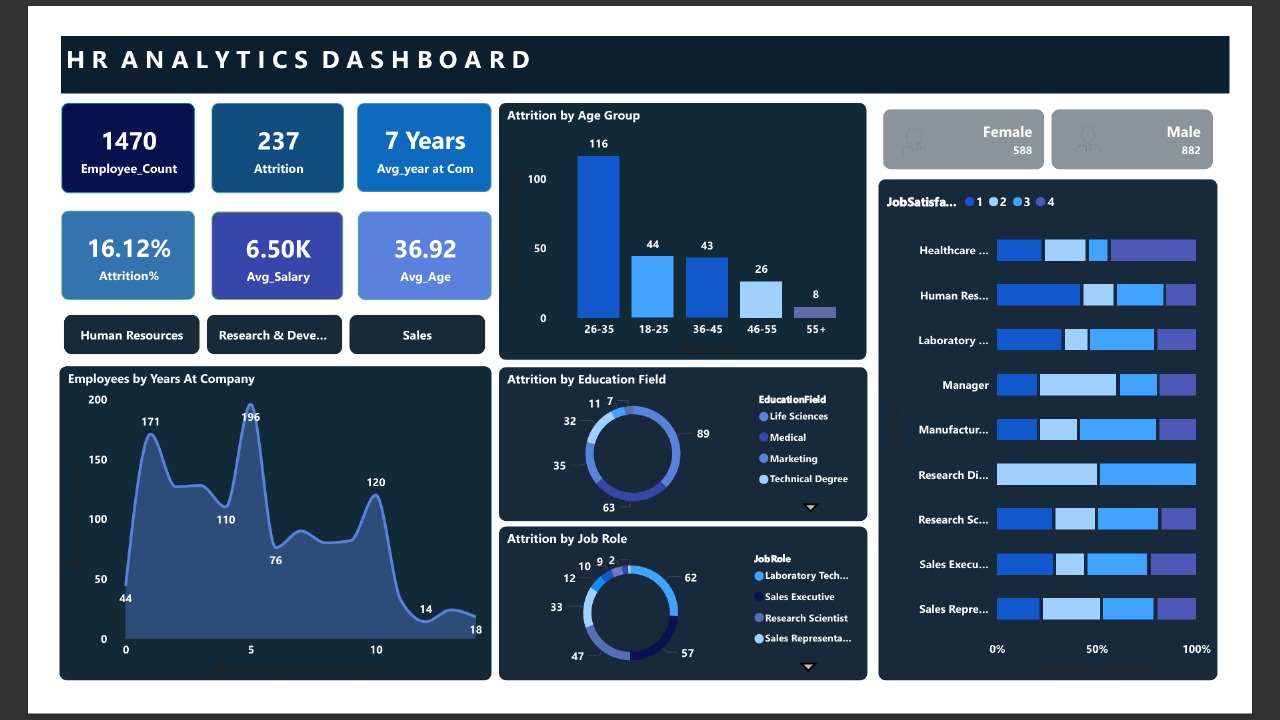

The dashboard page shown, as its layout file describes it:
{"tool":"powerbi","page":{"name":"Page 1","canvas":[1280,720],"ordinal":0},"visuals":[{"type":"image","box":[1106.4,97.5,40.8,50.1],"z":0},{"type":"image","box":[918,101.2,39.9,42.7],"z":1000},{"type":"card","fields":{"Values":["New Measures.Employee_Attrition"]},"box":[174.6,80.8,144.7,97.8],"z":2000},{"type":"card","fields":{"Values":["New Measures.Employee_Count"]},"box":[12,80.8,144.7,97.8],"z":3000},{"type":"card","fields":{"Values":["New Measures.Years_With_Text"]},"box":[333.2,80.8,145.7,97.5],"z":4000},{"type":"card","fields":{"Values":["New Measures.Attrition%"]},"box":[12,197.5,144.7,97.8],"z":5000},{"type":"card","fields":{"Values":["New Measures.Avg_Salary"]},"box":[174.6,198.5,143.7,96.8],"z":6000},{"type":"card","fields":{"Values":["New Measures.Avg_Age"]},"box":[334.2,198.5,144.7,96.8],"z":7000},{"type":"areaChart","title":"Employees by Years At Company","fields":{"Y":["New Measures.Employee_Count"],"Category":["HR_Analytics.YearsAtCompany"]},"box":[9.9,367.2,469.3,341.2],"z":8000},{"type":"donutChart","title":"Attrition by Education Field","fields":{"Y":["New Measures.Employee_Attrition"],"Category":["HR_Analytics.EducationField"]},"box":[487.3,367.6,400.1,167.1],"z":9000},{"type":"clusteredColumnChart","title":"Attrition by Age Group","fields":{"Category":["HR_Analytics.AgeGroup"],"Y":["New Measures.Employee_Attrition"]},"box":[487.3,80.8,399.1,279.4],"z":10000},{"type":"hundredPercentStackedBarChart","fields":{"Y":["New Measures.Employee_Attrition"],"Series":["HR_Analytics.JobSatisfaction"],"Category":["HR_Analytics.JobRole"]},"box":[898.5,164.3,368.5,543.9],"z":11000},{"type":"advancedSlicerVisual","fields":{"Values":["HR_Analytics.Gender"]},"box":[898.5,82.6,368.5,75.2],"z":12000},{"type":"advancedSlicerVisual","fields":{"Values":["HR_Analytics.Department"]},"box":[9.9,306.3,469.3,53.7],"z":13000},{"type":"textbox","box":[12.1,9.3,527.2,61.3],"z":14000},{"type":"donutChart","title":"Attrition by Job Role","fields":{"Y":["New Measures.Employee_Attrition"],"Category":["HR_Analytics.JobRole"]},"box":[487.3,541.1,400.1,167.1],"z":15000}]}

Visuals, with their boxes in screenshot pixels (x1, y1, x2, y2), scaled from the page's 1280x720 canvas onto the 1280x720 screenshot:
image: BBox(1106, 98, 1147, 148)
image: BBox(918, 101, 958, 144)
card - New Measures.Employee_Attrition: BBox(175, 81, 319, 179)
card - New Measures.Employee_Count: BBox(12, 81, 157, 179)
card - New Measures.Years_With_Text: BBox(333, 81, 479, 178)
card - New Measures.Attrition%: BBox(12, 198, 157, 295)
card - New Measures.Avg_Salary: BBox(175, 198, 318, 295)
card - New Measures.Avg_Age: BBox(334, 198, 479, 295)
"Employees by Years At Company" areaChart: BBox(10, 367, 479, 708)
"Attrition by Education Field" donutChart: BBox(487, 368, 887, 535)
"Attrition by Age Group" clusteredColumnChart: BBox(487, 81, 886, 360)
hundredPercentStackedBarChart - New Measures.Employee_Attrition x HR_Analytics.JobSatisfaction: BBox(898, 164, 1267, 708)
advancedSlicerVisual - HR_Analytics.Gender: BBox(898, 83, 1267, 158)
advancedSlicerVisual - HR_Analytics.Department: BBox(10, 306, 479, 360)
textbox: BBox(12, 9, 539, 71)
"Attrition by Job Role" donutChart: BBox(487, 541, 887, 708)
